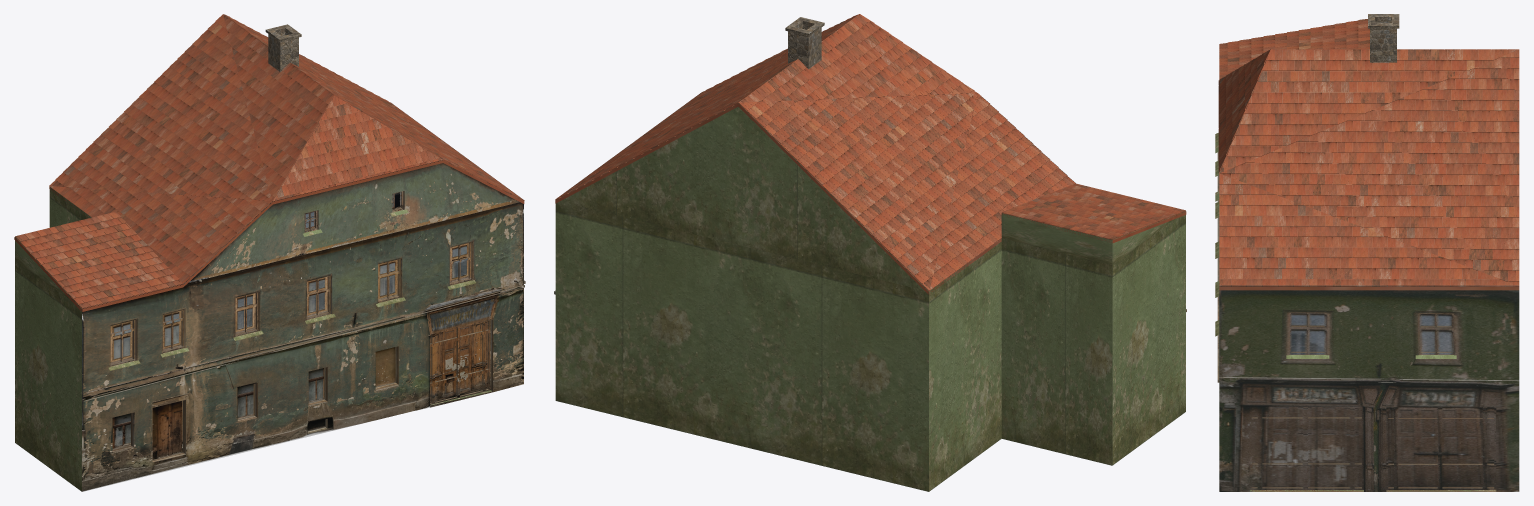
3 renders of one model, left to right at view 1: azimuth 30°, elevation 25°; view 2: azimuth 150°, elevation 25°; view 3: azimuth 270°, elevation 25°, orthographic. The views are drawn at different scales.
Parts seen in each view (by area): view 1: CP40_detail_uv_r15; view 2: CP40_detail_uv_r15; view 3: CP40_detail_uv_r15.
Boxes of the visible parts, left/top/right/bottom form: CP40_detail_uv_r15: left=14, top=14, right=525, bottom=491; CP40_detail_uv_r15: left=554, top=14, right=1186, bottom=491; CP40_detail_uv_r15: left=1215, top=14, right=1519, bottom=491.
Size of the model in its own units: 16.22 by 11.82 by 8.56.
Materials: 10 (10 with a texture image).
